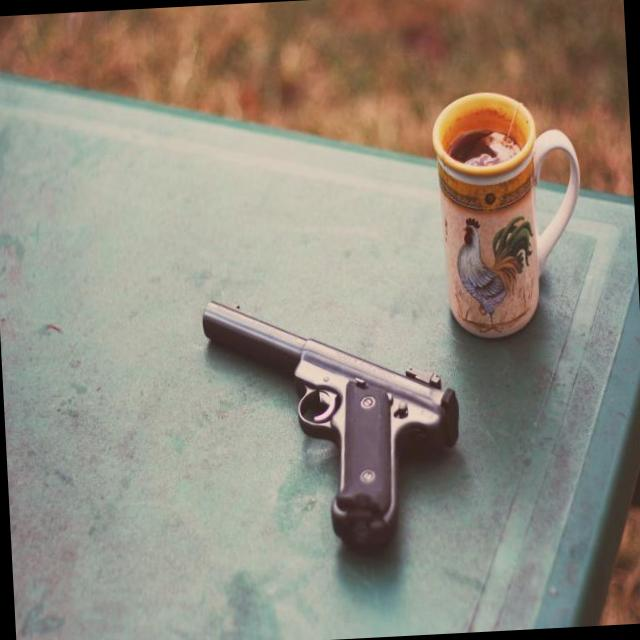Gun: (203, 301, 460, 540)
